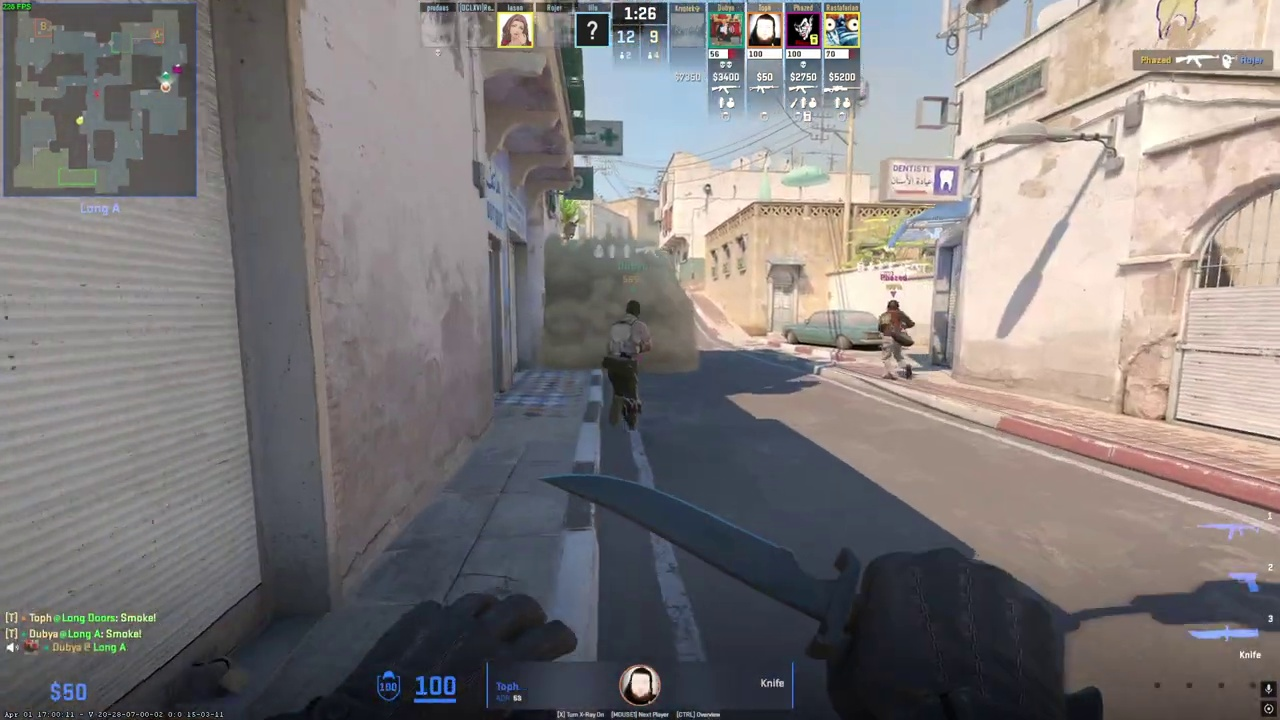Terrorist: (602, 300, 652, 430), (878, 300, 915, 381)
